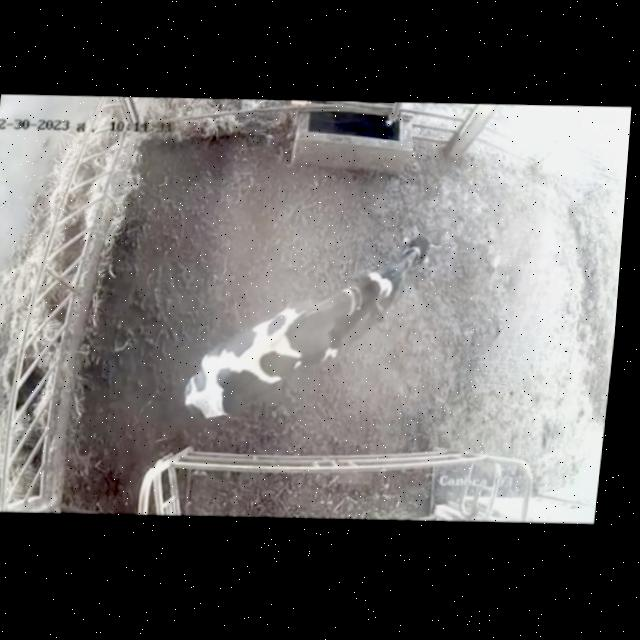ride: (148, 258, 404, 448)
stand: (320, 194, 445, 374)
